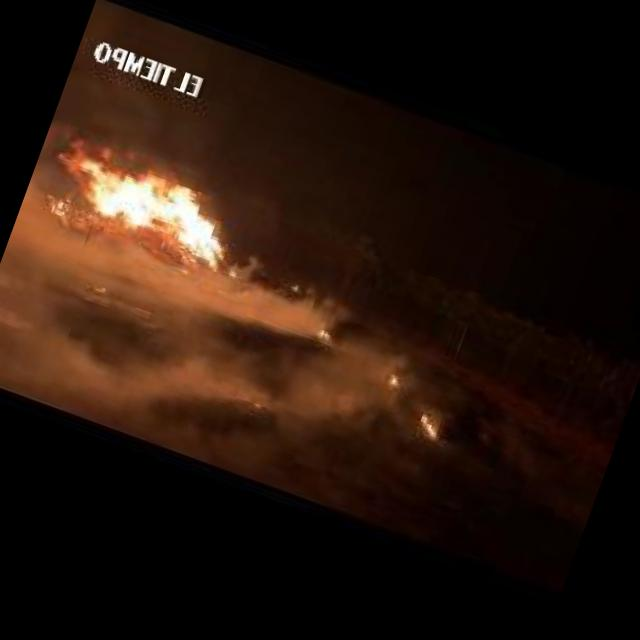fire: (38, 129, 257, 283), (417, 414, 443, 440), (387, 368, 406, 390), (319, 326, 332, 338), (292, 285, 302, 294), (231, 270, 239, 278)
smoke: (0, 251, 326, 493)
